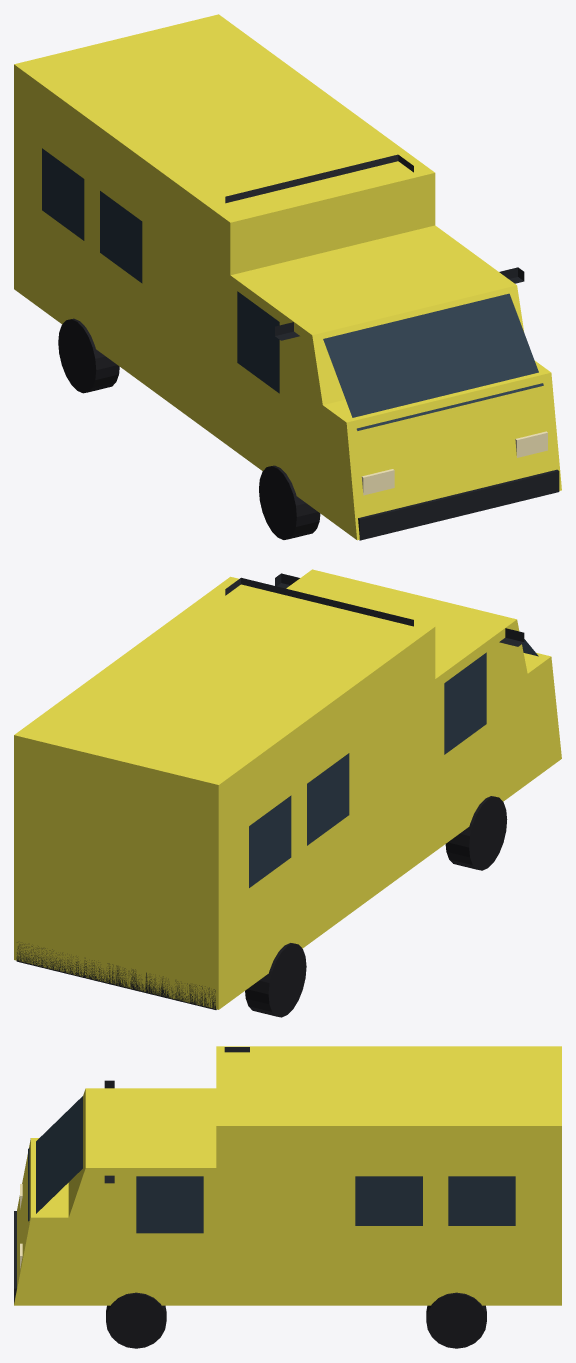
The model's file is ambulance.glb.
The picture shows the model from 3 angles, top to bottom: view 1: azimuth 30°, elevation 25°; view 2: azimuth 150°, elevation 25°; view 3: azimuth 270°, elevation 25°; orthographic projection. The views are drawn at different scales.
Parts seen in each view (by area): view 1: body, glass_screen, bumper_nose, glass_side.005, wheel_1_L_tyre, wheel_0_L_tyre, glass_side.001, glass_side.003, beacon_bar, head_L, head_R; view 2: body, glass_side.005, wheel_0_L_tyre, wheel_1_L_tyre, glass_side.001, glass_side.003, bumper_tail, beacon_bar; view 3: body, glass_side.004, glass_screen, glass_side, glass_side.002, wheel_0_R_tyre, wheel_1_R_tyre.
Boxes of the visible parts, bbox=[...] form: body: bbox=[14, 14, 561, 540]; glass_screen: bbox=[323, 293, 543, 430]; bumper_nose: bbox=[358, 469, 559, 540]; glass_side.005: bbox=[237, 291, 279, 393]; wheel_1_L_tyre: bbox=[259, 465, 320, 539]; wheel_0_L_tyre: bbox=[58, 318, 119, 393]; glass_side.001: bbox=[42, 148, 84, 240]; glass_side.003: bbox=[100, 191, 142, 283]; beacon_bar: bbox=[225, 154, 413, 203]; head_L: bbox=[361, 469, 394, 495]; head_R: bbox=[515, 431, 547, 457]; body: bbox=[14, 569, 561, 1009]; glass_side.005: bbox=[444, 652, 486, 754]; wheel_0_L_tyre: bbox=[245, 943, 306, 1017]; wheel_1_L_tyre: bbox=[445, 796, 507, 870]; glass_side.001: bbox=[249, 795, 291, 887]; glass_side.003: bbox=[307, 753, 349, 845]; bumper_tail: bbox=[16, 942, 216, 1009]; beacon_bar: bbox=[225, 577, 413, 626]; body: bbox=[14, 1046, 561, 1305]; glass_side.004: bbox=[136, 1176, 203, 1233]; glass_screen: bbox=[28, 1096, 82, 1221]; glass_side: bbox=[448, 1176, 515, 1225]; glass_side.002: bbox=[355, 1176, 422, 1225]; wheel_0_R_tyre: bbox=[426, 1292, 486, 1348]; wheel_1_R_tyre: bbox=[106, 1292, 166, 1348].
Size of the model in its own units: 2.66 by 2.97 by 6.5.
